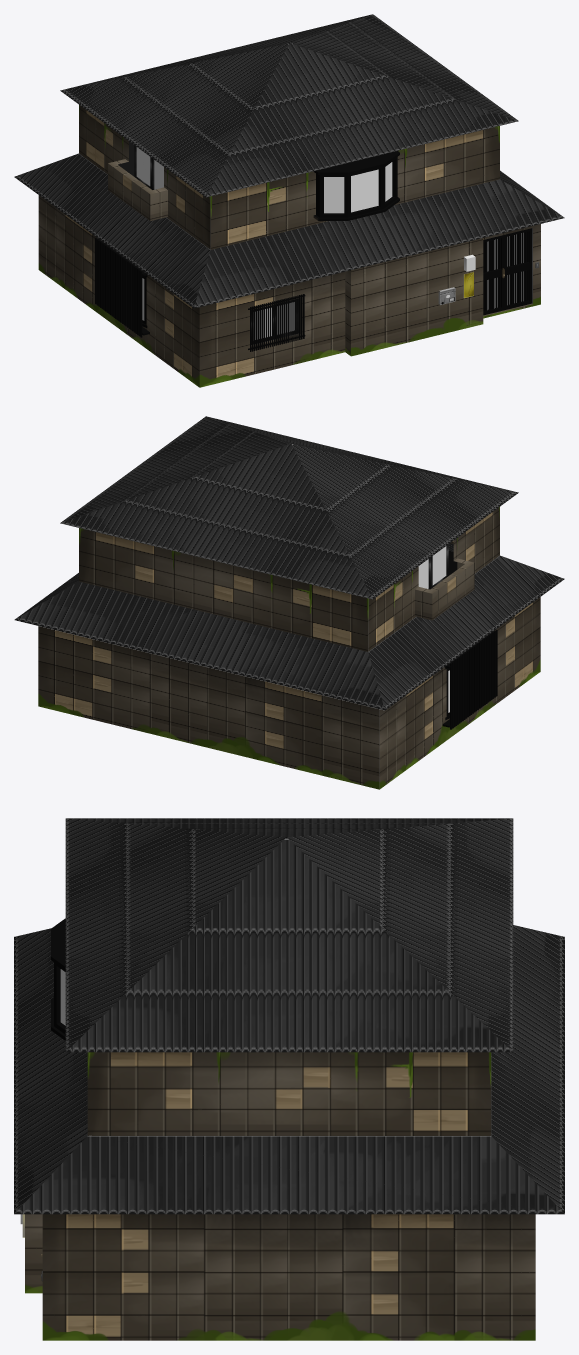
File: HouseOBJTest1.fbx
3 views of the same model, one above another, from view 1: azimuth 30°, elevation 25°; view 2: azimuth 150°, elevation 25°; view 3: azimuth 270°, elevation 25° (orthographic). The views are drawn at different scales.
Visible parts, largest first — view 1: Cube.065, Cube.064, Cube.066, Cube.054, Cube.056, Cube.060, Cube.062, Cube.063, Cube.067; view 2: Cube.065, Cube.064, Cube.066, Cube.054, Cube.067; view 3: Cube.064, Cube.065, Cube.066.
Boxes of the visible parts, box(x1,y1,x2,y2) form: Cube.065: box(14, 43, 564, 308); Cube.064: box(60, 14, 518, 197); Cube.066: box(38, 195, 540, 387); Cube.054: box(95, 238, 142, 337); Cube.056: box(250, 294, 304, 351); Cube.060: box(483, 231, 528, 311); Cube.062: box(483, 228, 531, 315); Cube.063: box(251, 299, 298, 344); Cube.067: box(134, 145, 163, 189); Cube.065: box(14, 443, 564, 710); Cube.064: box(60, 416, 518, 599); Cube.066: box(38, 597, 540, 789); Cube.054: box(450, 630, 497, 729); Cube.067: box(418, 544, 448, 589); Cube.064: box(65, 818, 513, 1052); Cube.065: box(14, 837, 564, 1214); Cube.066: box(25, 1214, 535, 1340).
Bounding box in the file's own units: 1371 × 868 × 1151.
